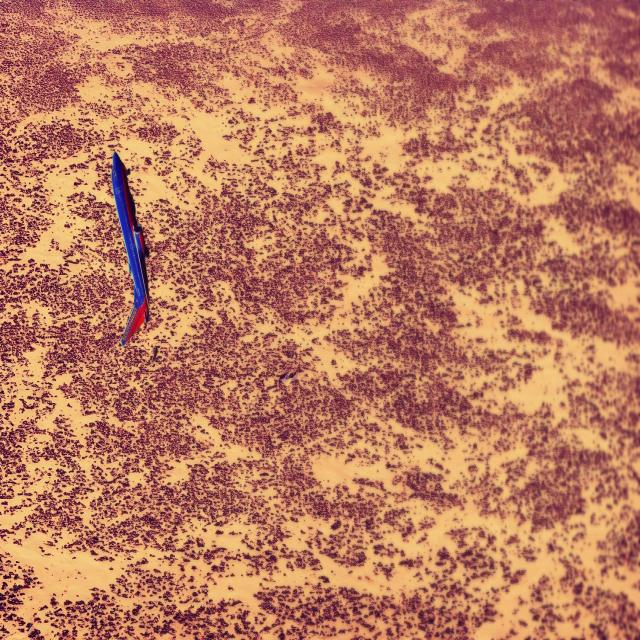airplane: (110, 150, 150, 347)
